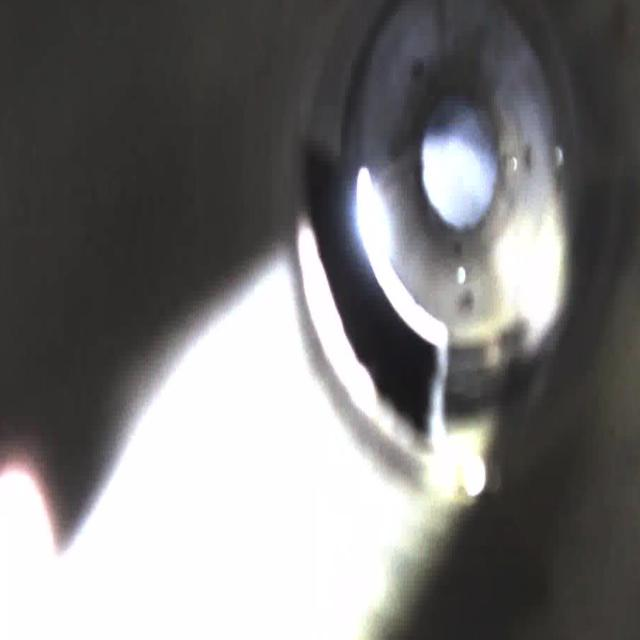hole: (284, 134, 446, 482)
